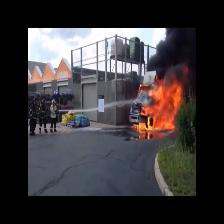fire: (144, 85, 182, 132)
smoke: (156, 28, 196, 79)
